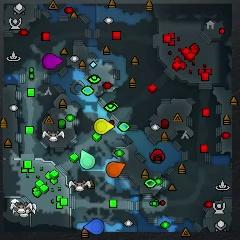p1: (83, 218, 104, 235)
p2: (81, 150, 96, 169)
p3: (43, 53, 63, 68)
p4: (94, 119, 114, 135)
p5: (106, 162, 125, 177)
